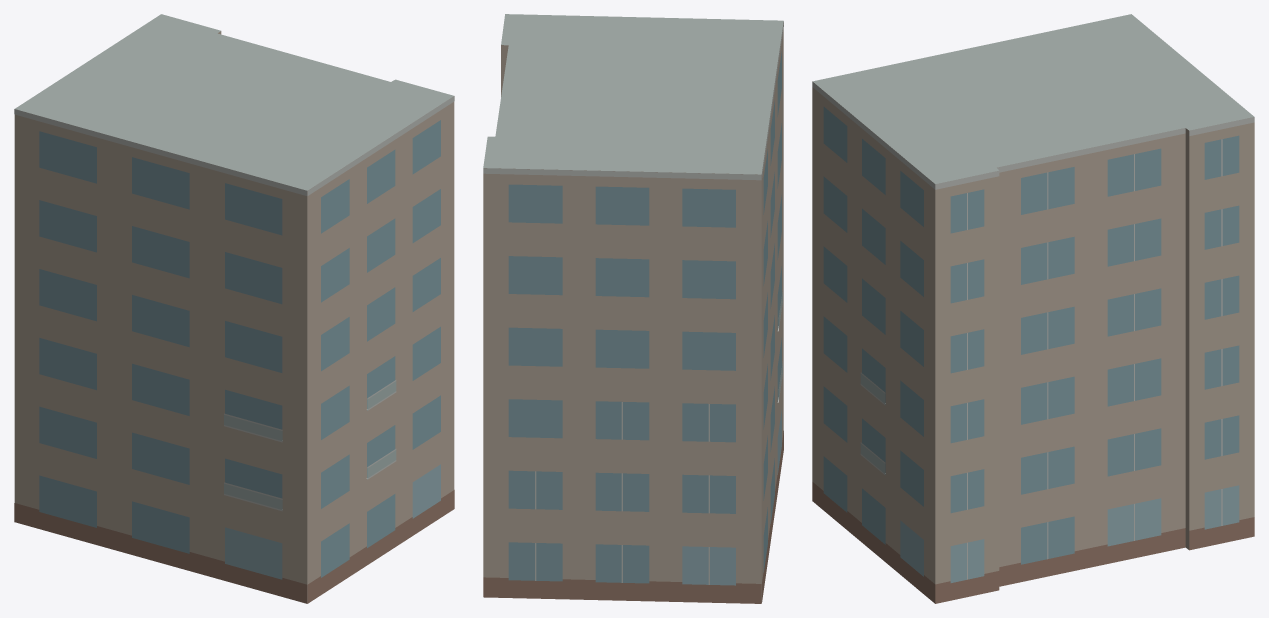
Rendered from survey-upis-32708374.glb.
The picture shows the model from 3 angles, left to right: view 1: azimuth 30°, elevation 25°; view 2: azimuth 150°, elevation 25°; view 3: azimuth 270°, elevation 25°; orthographic projection. The views are drawn at different scales.
Parts seen in each view (by area): view 1: survey-upis-32708374.tmp; view 2: survey-upis-32708374.tmp; view 3: survey-upis-32708374.tmp.
Part boxes in pixels (x1,y1,x2,y2): survey-upis-32708374.tmp: (14, 14, 454, 603); survey-upis-32708374.tmp: (483, 14, 783, 603); survey-upis-32708374.tmp: (812, 14, 1254, 603).
Size of the model in its own units: 15.93 by 18.3 by 17.49.
